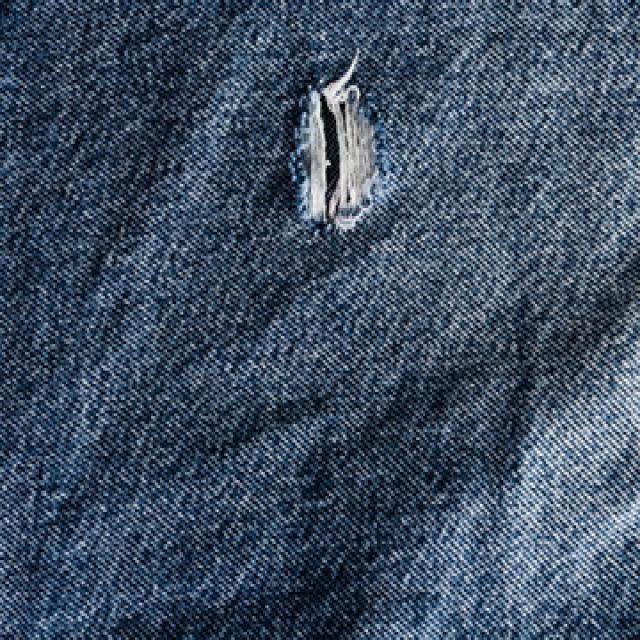Hole: (290, 76, 388, 230)
